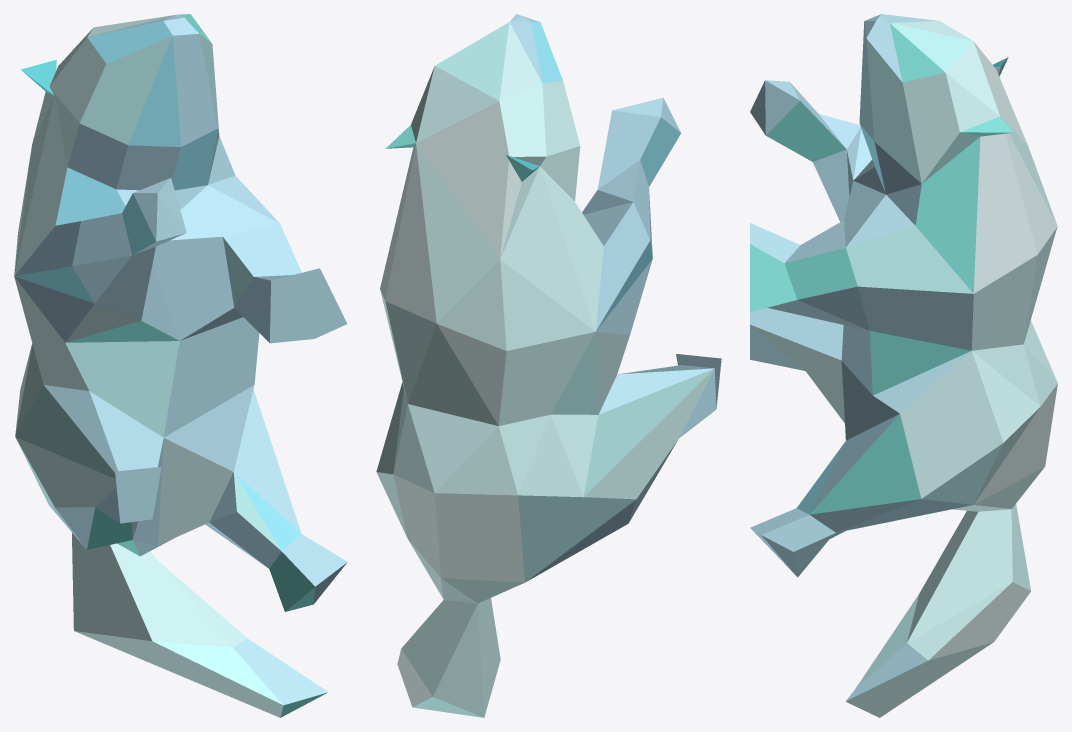
Rendered from statue_13.fbx.
The picture shows the model from 3 angles, left to right: view 1: azimuth 30°, elevation 25°; view 2: azimuth 150°, elevation 25°; view 3: azimuth 270°, elevation 25°; orthographic projection. The views are drawn at different scales.
Parts seen in each view (by area): view 1: statue_13; view 2: statue_13; view 3: statue_13.
Boxes of the visible parts, bbox=[...] form: statue_13: bbox=[14, 14, 347, 717]; statue_13: bbox=[376, 14, 721, 717]; statue_13: bbox=[750, 14, 1057, 717].
Bounding box in the file's own units: 77.74 × 202 × 86.26.
